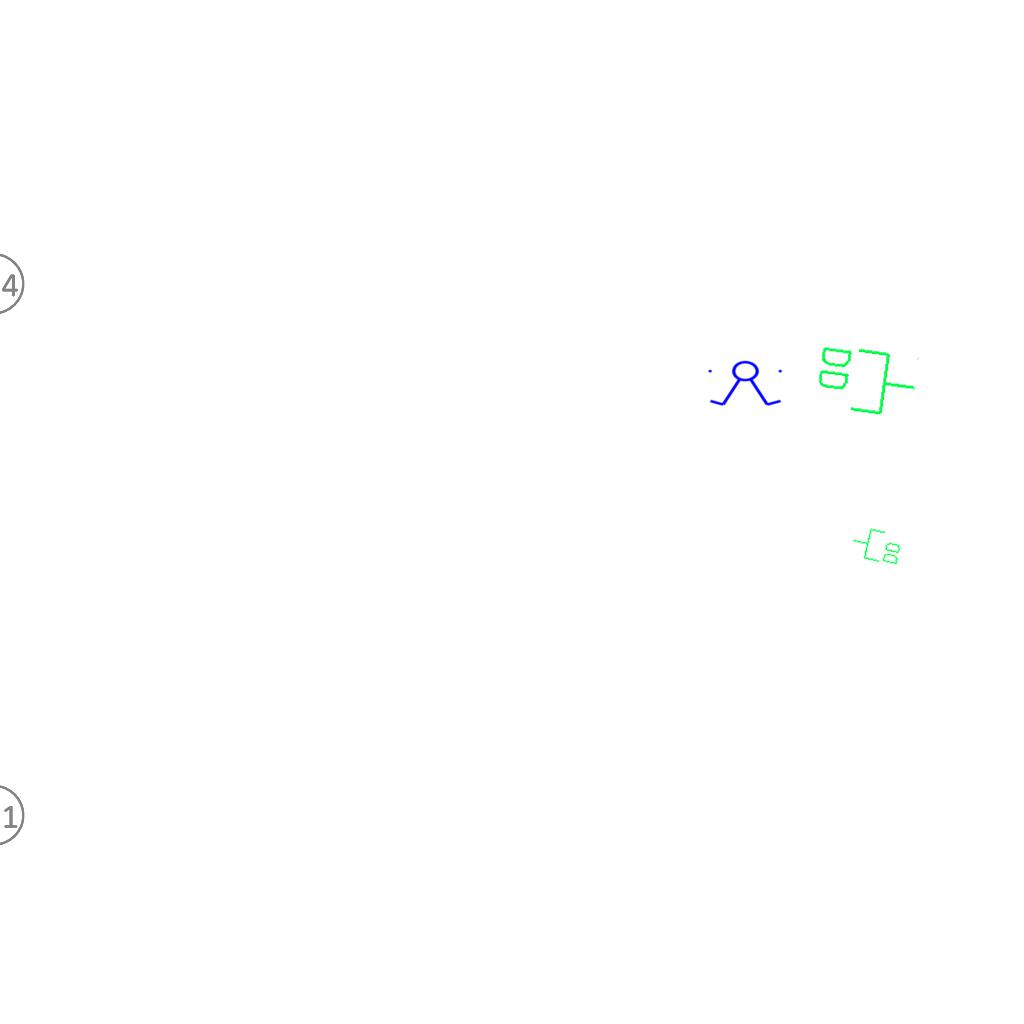Datenanschluss_zweifach: (810, 339, 923, 422), (847, 523, 906, 569)
Serienschalter: (704, 360, 788, 408)
